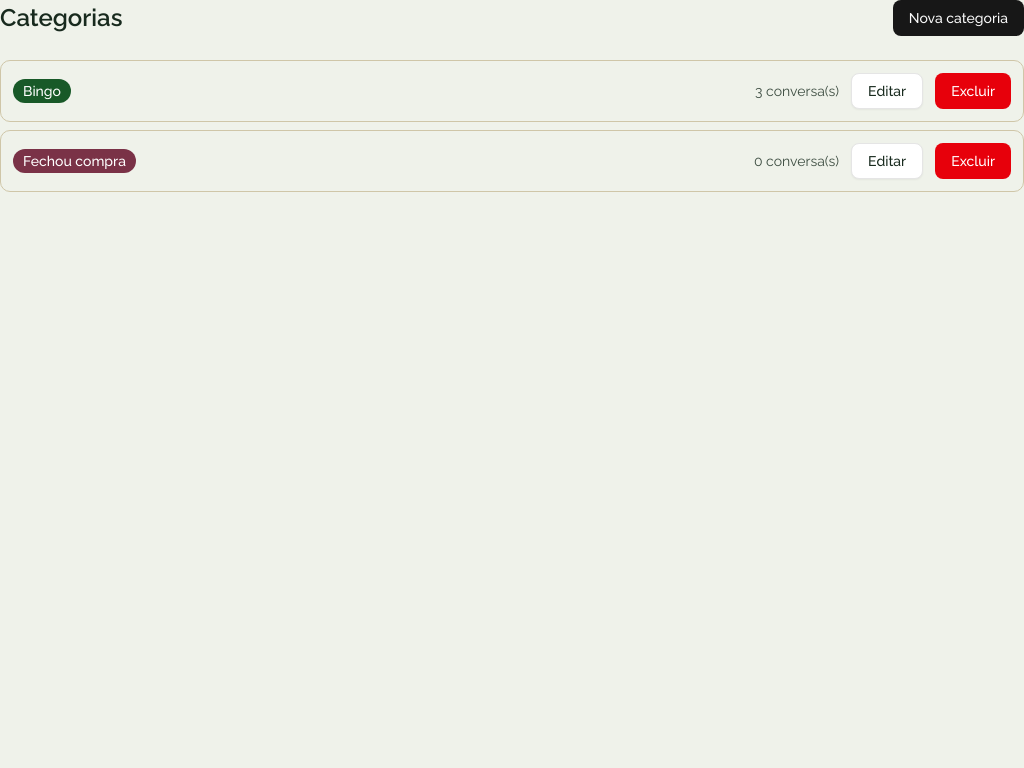
Scenario: CategoriasPage › shows the delete error inside the still-open dialog when the delete fails
Click the button "Excluir" in the row of "Bingo". click: (973, 91)
box: [935,73,1011,109]
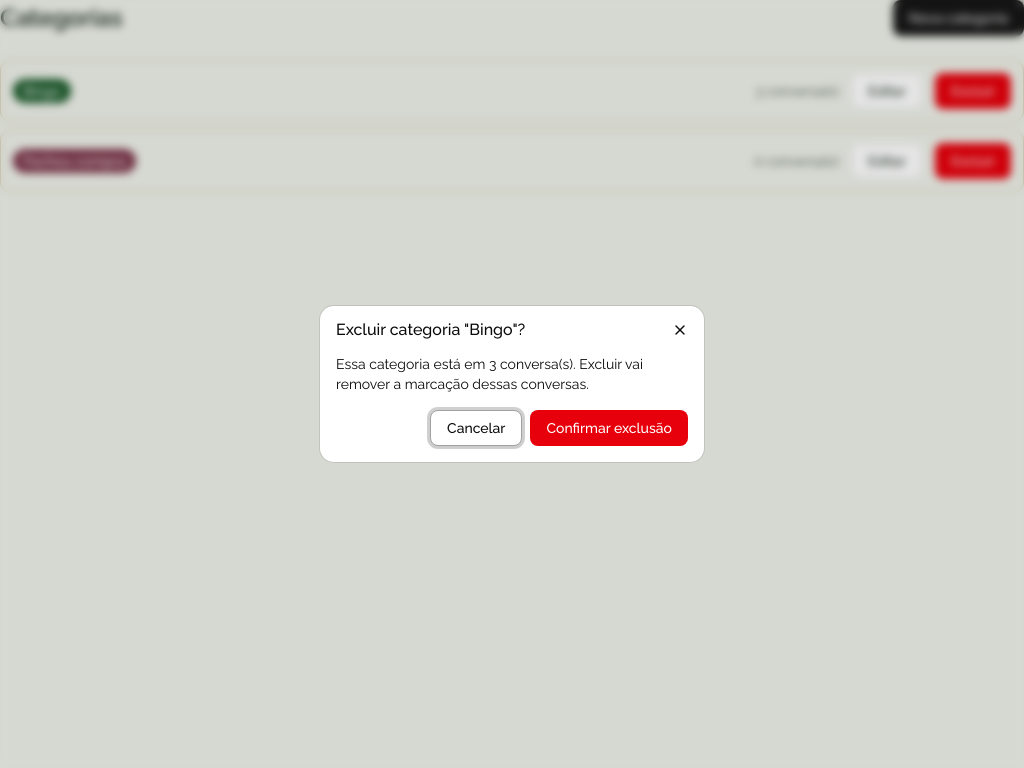
Click the button "Confirmar exclusão". click: (609, 428)
box: [530,410,688,446]
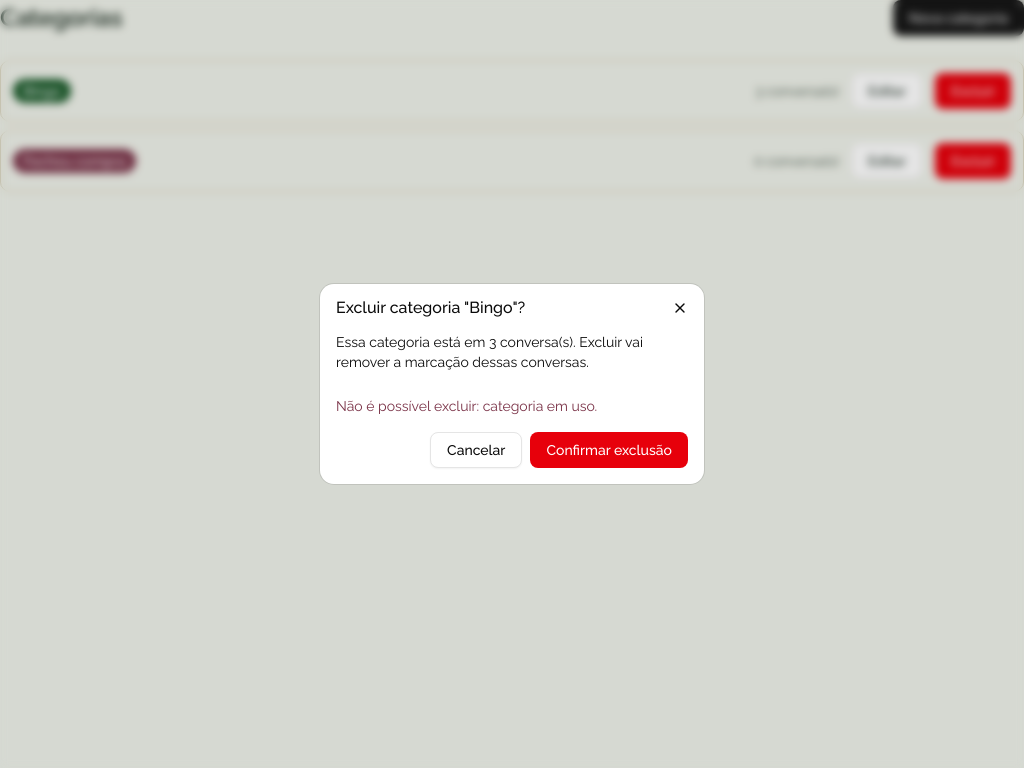
Result: the heading "Excluir categoria \"Bingo\"?" is shown at [336,298,525,317]
Result: the button "Confirmar exclusão" is shown at [530,432,688,468]
Result: the message reads "Não é possível excluir: categoria em uso." at [336,398,597,414]
